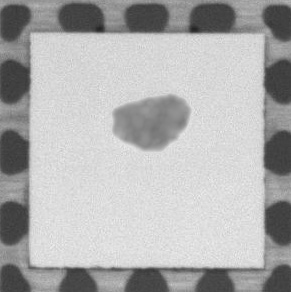DIE_INK: (107, 88, 194, 157)
